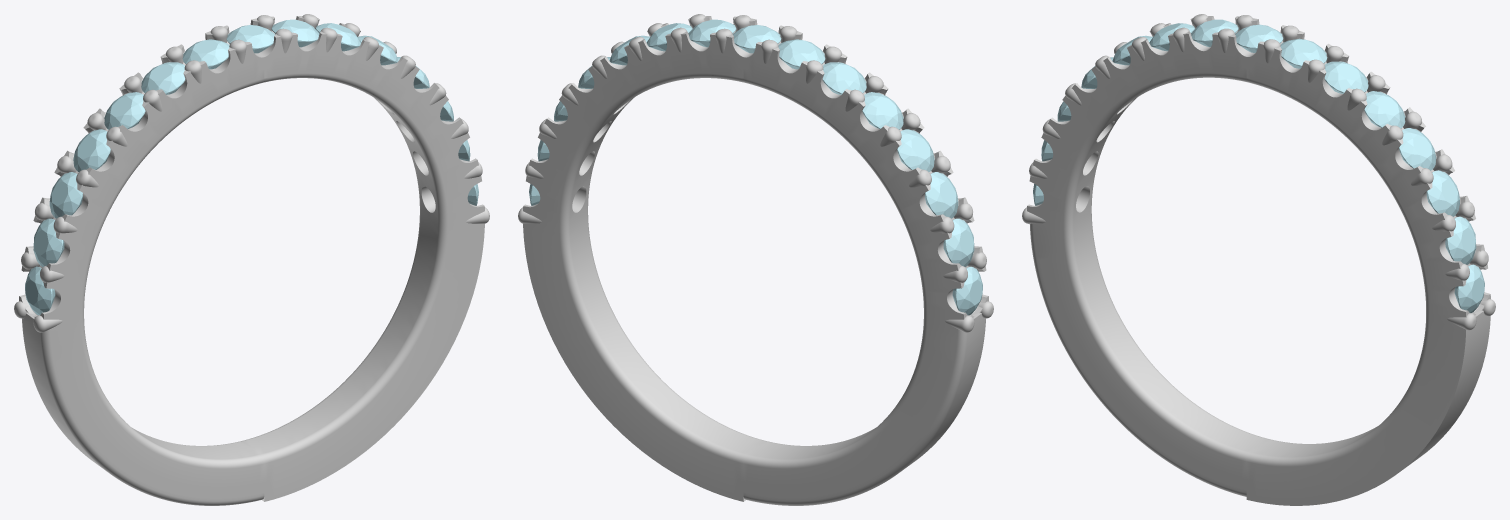
The model's file is KatePTaqua_blender.glb.
The picture shows the model from 3 angles, left to right: view 1: azimuth 30°, elevation 25°; view 2: azimuth 150°, elevation 25°; view 3: azimuth 330°, elevation 25°; orthographic projection.
Visible parts, largest first — view 1: Kate PT for 3d model, Kate aquamarine for 3d model.011, Kate aquamarine for 3d model.010, Kate aquamarine for 3d model.012, Kate aquamarine for 3d model.009, Kate aquamarine for 3d model.013, Kate aquamarine for 3d model.008, Kate aquamarine for 3d model.014, Kate aquamarine for 3d model.007, Kate aquamarine for 3d model.006, Kate aquamarine for 3d model.005; view 2: Kate PT for 3d model, Kate aquamarine for 3d model.011, Kate aquamarine for 3d model.010, Kate aquamarine for 3d model.012, Kate aquamarine for 3d model.009, Kate aquamarine for 3d model.013, Kate aquamarine for 3d model.008, Kate aquamarine for 3d model.014, Kate aquamarine for 3d model.007, Kate aquamarine for 3d model.006, Kate aquamarine for 3d model.005; view 3: Kate PT for 3d model, Kate aquamarine for 3d model.003, Kate aquamarine for 3d model.004, Kate aquamarine for 3d model.002, Kate aquamarine for 3d model.005, Kate aquamarine for 3d model.001, Kate aquamarine for 3d model.006, Kate aquamarine for 3d model, Kate aquamarine for 3d model.007, Kate aquamarine for 3d model.008, Kate aquamarine for 3d model.009.
Part boxes in pixels (x1=…): Kate PT for 3d model: x1=14, y1=14, x2=489, y2=505; Kate aquamarine for 3d model.011: x1=73, y1=129, x2=110, y2=171; Kate aquamarine for 3d model.010: x1=104, y1=92, x2=145, y2=129; Kate aquamarine for 3d model.012: x1=49, y1=172, x2=82, y2=218; Kate aquamarine for 3d model.009: x1=141, y1=62, x2=185, y2=94; Kate aquamarine for 3d model.013: x1=33, y1=218, x2=64, y2=266; Kate aquamarine for 3d model.008: x1=182, y1=39, x2=229, y2=69; Kate aquamarine for 3d model.014: x1=25, y1=266, x2=55, y2=315; Kate aquamarine for 3d model.007: x1=226, y1=25, x2=274, y2=53; Kate aquamarine for 3d model.006: x1=271, y1=19, x2=319, y2=47; Kate aquamarine for 3d model.005: x1=315, y1=23, x2=361, y2=51; Kate PT for 3d model: x1=518, y1=14, x2=993, y2=505; Kate aquamarine for 3d model.011: x1=897, y1=129, x2=934, y2=171; Kate aquamarine for 3d model.010: x1=862, y1=92, x2=903, y2=129; Kate aquamarine for 3d model.012: x1=925, y1=172, x2=958, y2=218; Kate aquamarine for 3d model.009: x1=822, y1=62, x2=866, y2=94; Kate aquamarine for 3d model.013: x1=943, y1=218, x2=974, y2=266; Kate aquamarine for 3d model.008: x1=778, y1=39, x2=825, y2=69; Kate aquamarine for 3d model.014: x1=952, y1=266, x2=982, y2=315; Kate aquamarine for 3d model.007: x1=733, y1=25, x2=781, y2=53; Kate aquamarine for 3d model.006: x1=688, y1=19, x2=736, y2=47; Kate aquamarine for 3d model.005: x1=646, y1=23, x2=692, y2=51; Kate PT for 3d model: x1=1022, y1=14, x2=1495, y2=505; Kate aquamarine for 3d model.003: x1=1399, y1=128, x2=1436, y2=170; Kate aquamarine for 3d model.004: x1=1364, y1=91, x2=1405, y2=128; Kate aquamarine for 3d model.002: x1=1426, y1=170, x2=1459, y2=216; Kate aquamarine for 3d model.005: x1=1324, y1=61, x2=1368, y2=93; Kate aquamarine for 3d model.001: x1=1445, y1=216, x2=1476, y2=264; Kate aquamarine for 3d model.006: x1=1280, y1=38, x2=1327, y2=68; Kate aquamarine for 3d model: x1=1454, y1=264, x2=1484, y2=312; Kate aquamarine for 3d model.007: x1=1235, y1=24, x2=1283, y2=52; Kate aquamarine for 3d model.008: x1=1191, y1=19, x2=1238, y2=47; Kate aquamarine for 3d model.009: x1=1149, y1=23, x2=1194, y2=51.
Size of the model in its own units: 21.01 by 20.6 by 2.26.
